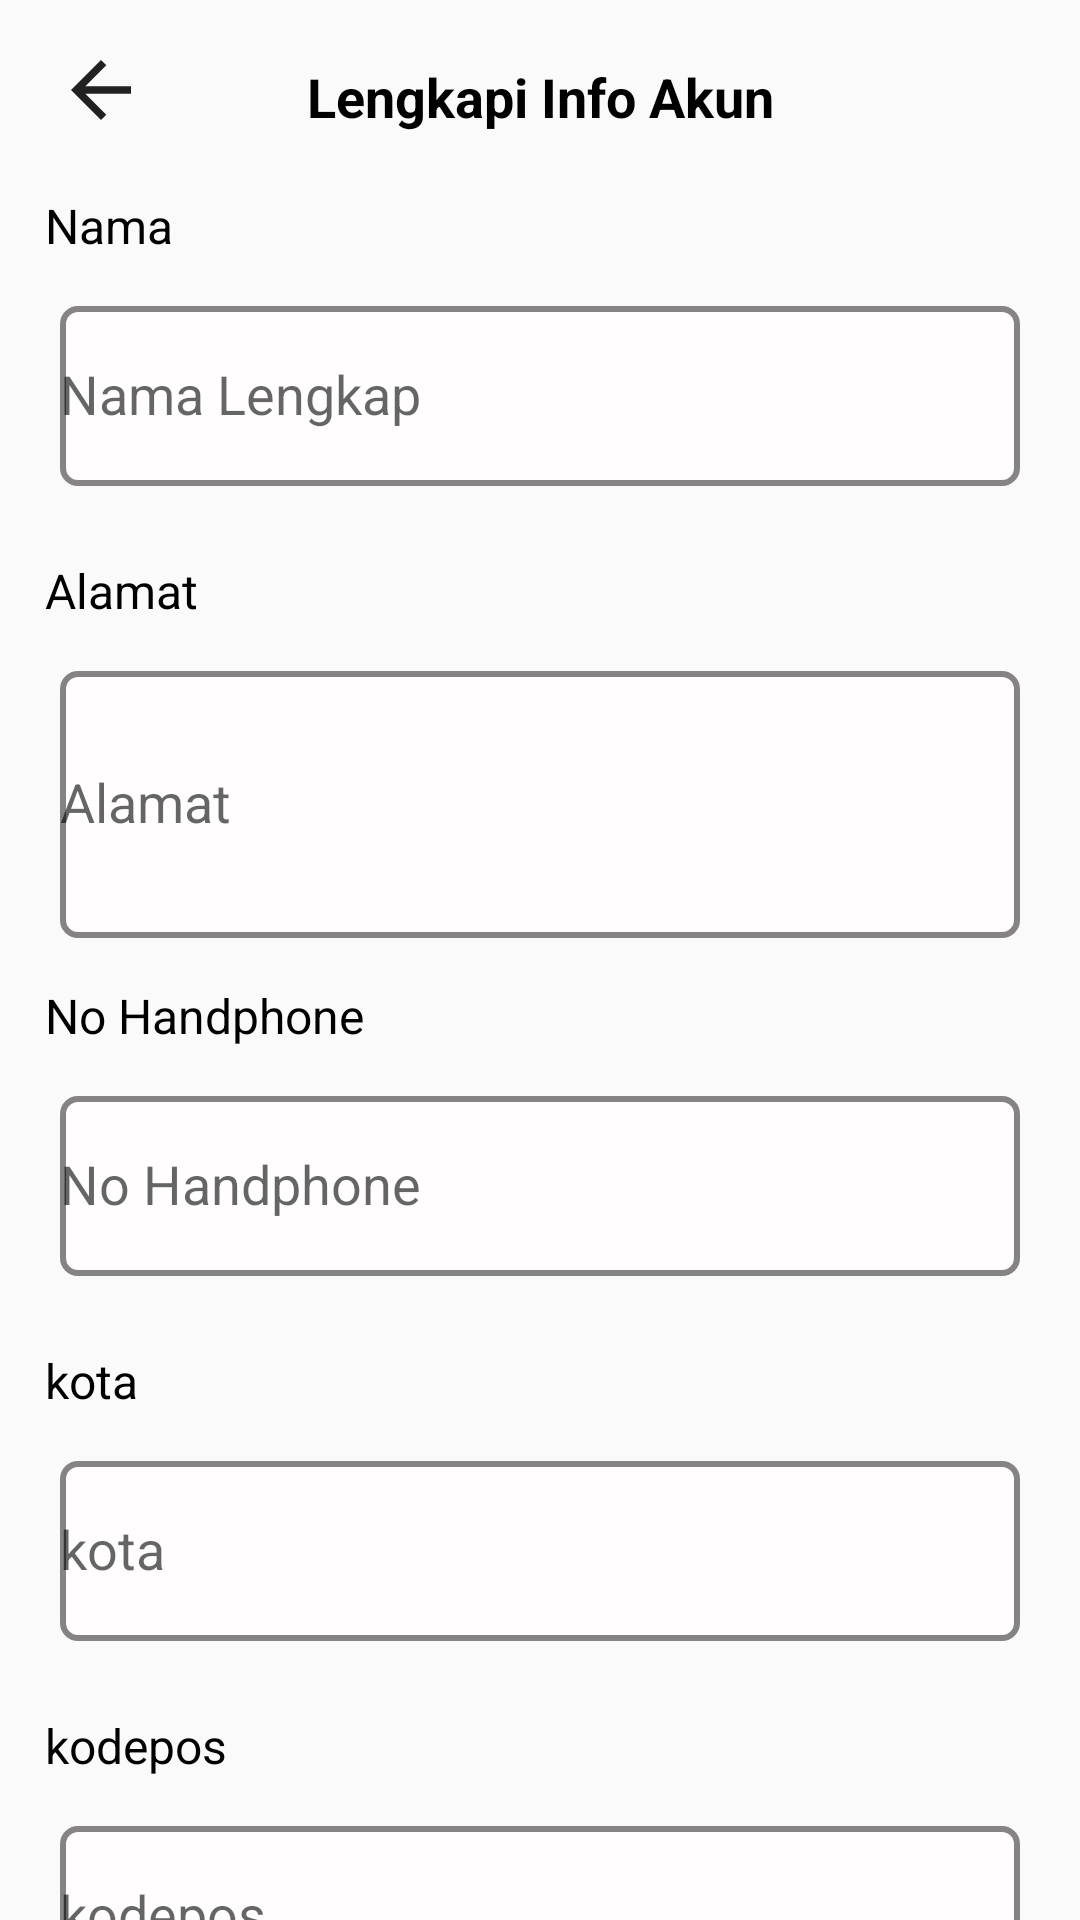

Named icons in this screenshot (1080*1920) and their centers, [x,y]:
arrow back: [101,90]
